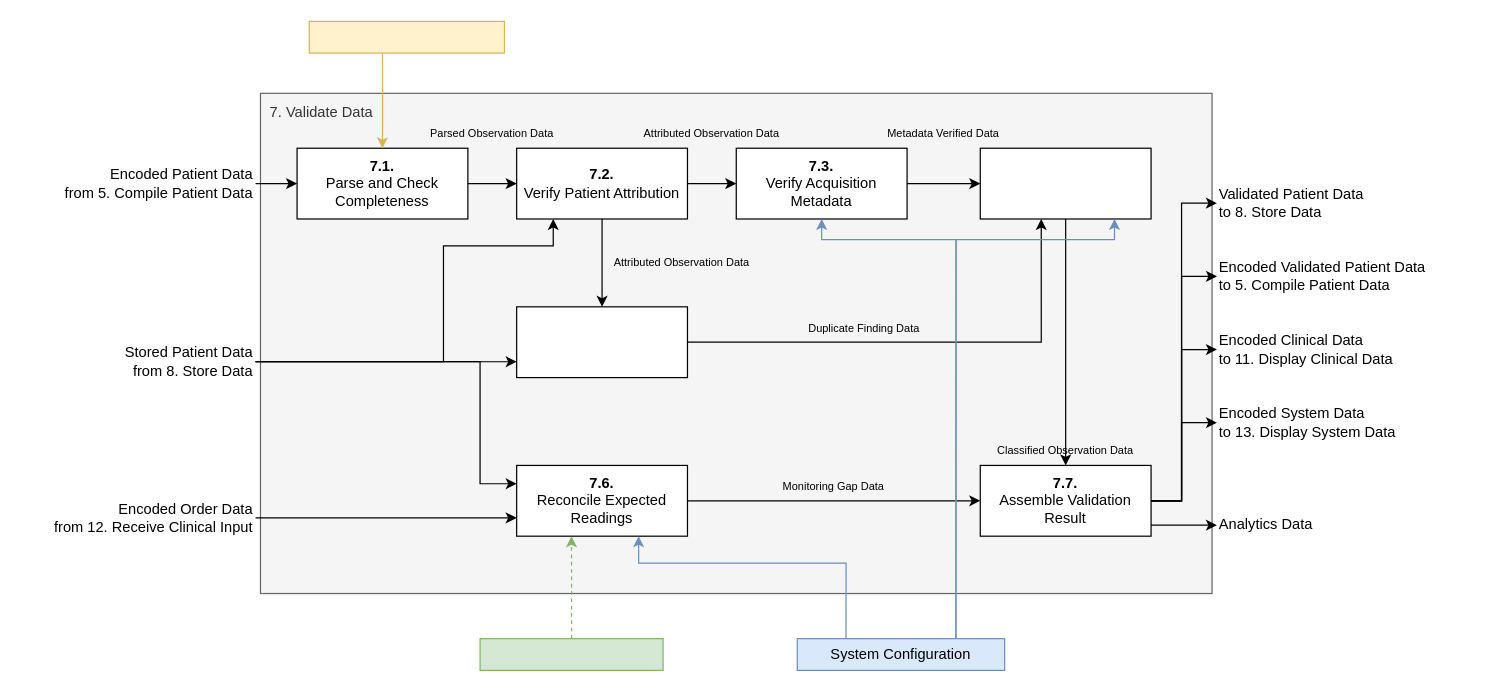
The diagram is 1505 pixels wide and 692 high, and some of its shapes have lost their labels. Each missing label, with the centre of its shape:
"7.4. Detect Duplicate Observations" belongs at (x=601, y=342).
"7.5. Classify Observation Validity" belongs at (x=1065, y=183).
"Geography" belongs at (x=571, y=653).
"Infrastructure Regulations" belongs at (x=406, y=36).
